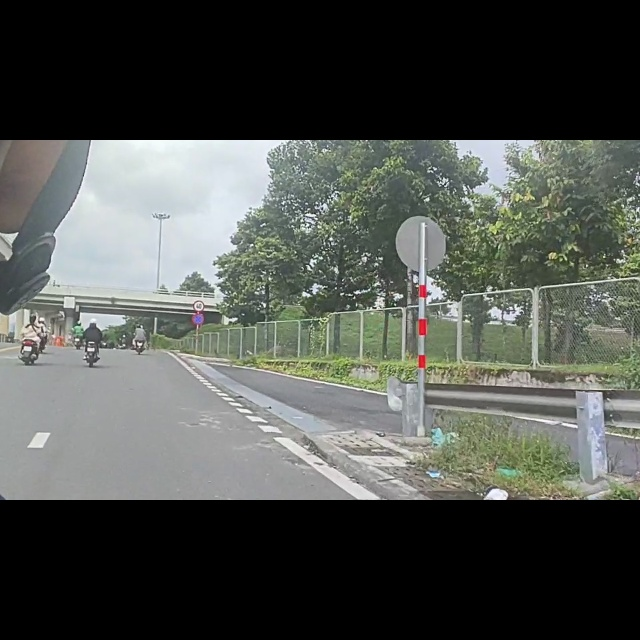bien_cam: (191, 308, 205, 329), (193, 284, 205, 303)
